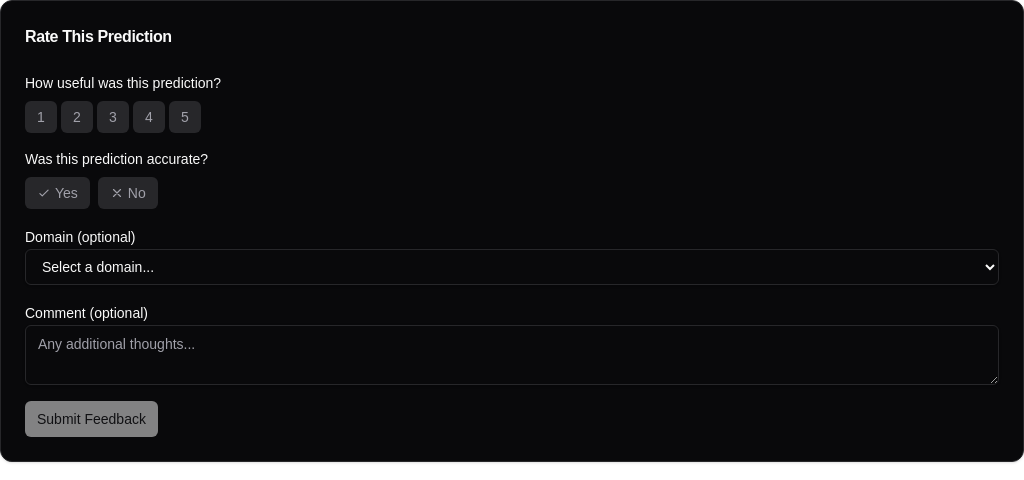
Test case: PredictionFeedback › enables submit after rating selected
Click the button "3" at (113, 117), box [97, 101, 129, 133]
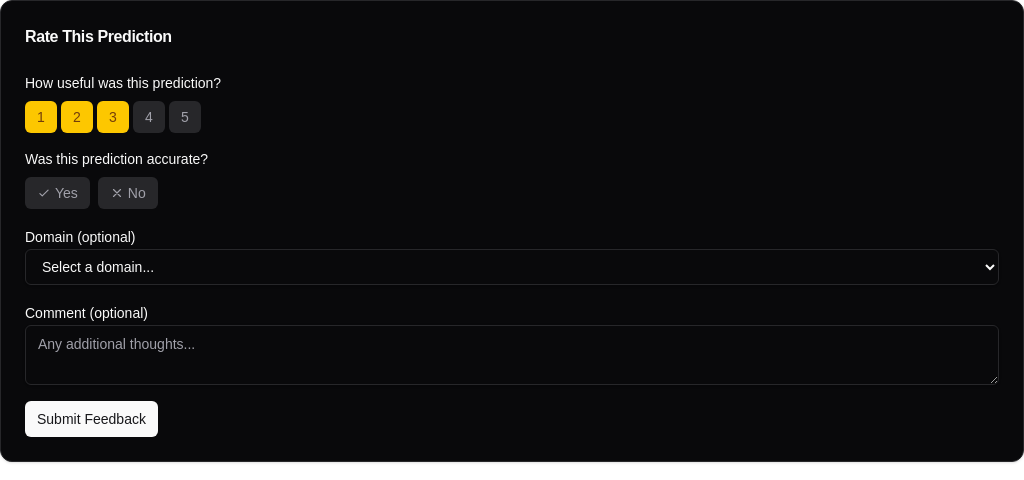
Now the button "Submit Feedback" is enabled, box [25, 401, 158, 437]
